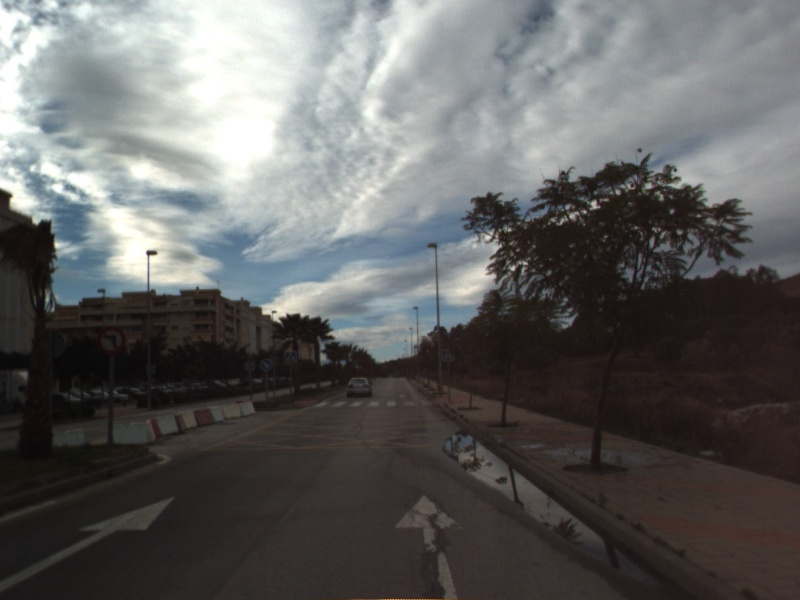STRAIGHT: (1, 494, 178, 593), (392, 492, 466, 600)
